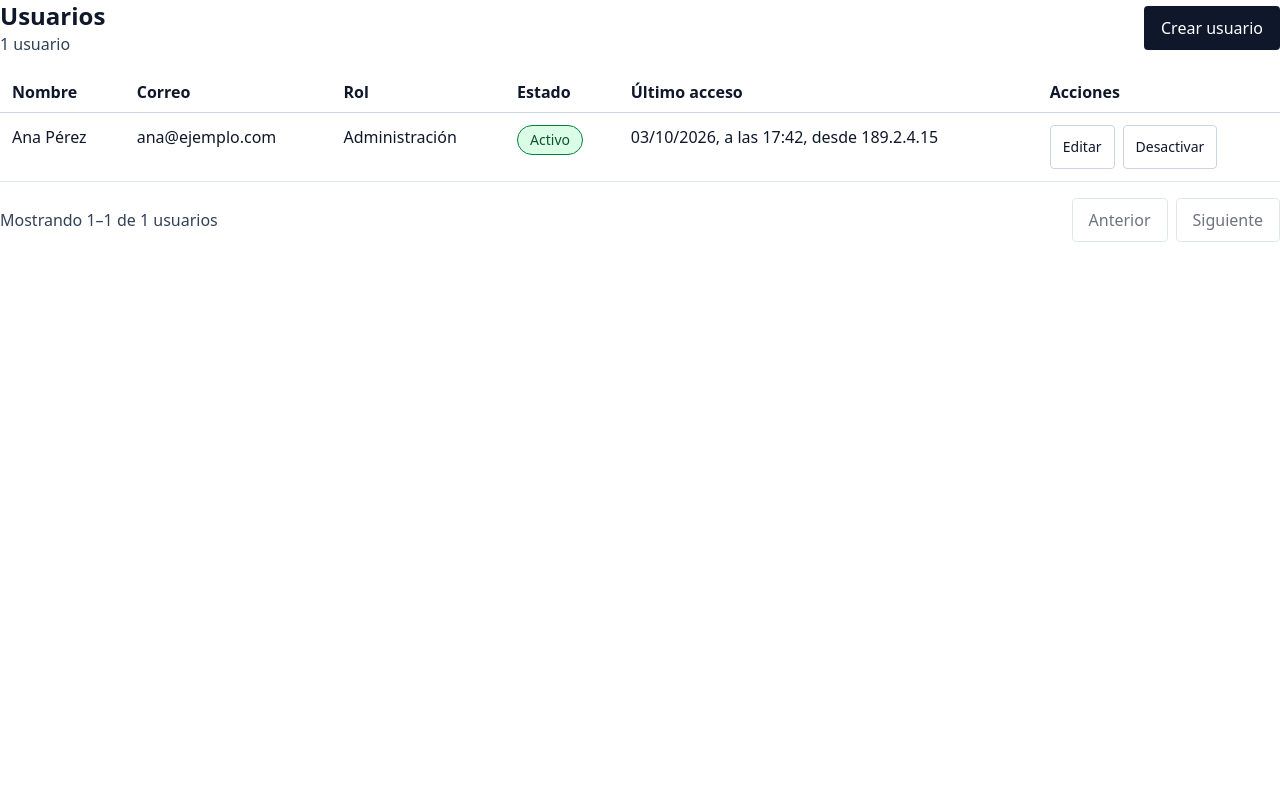
Scenario: UserForm · editar › precarga la ficha, muestra el último acceso y no muestra contraseña (FR-021/FR-026)
The image size is (1280, 800).
Click the button "Editar".
click(1082, 147)  # box 1050,125 -> 1114,169
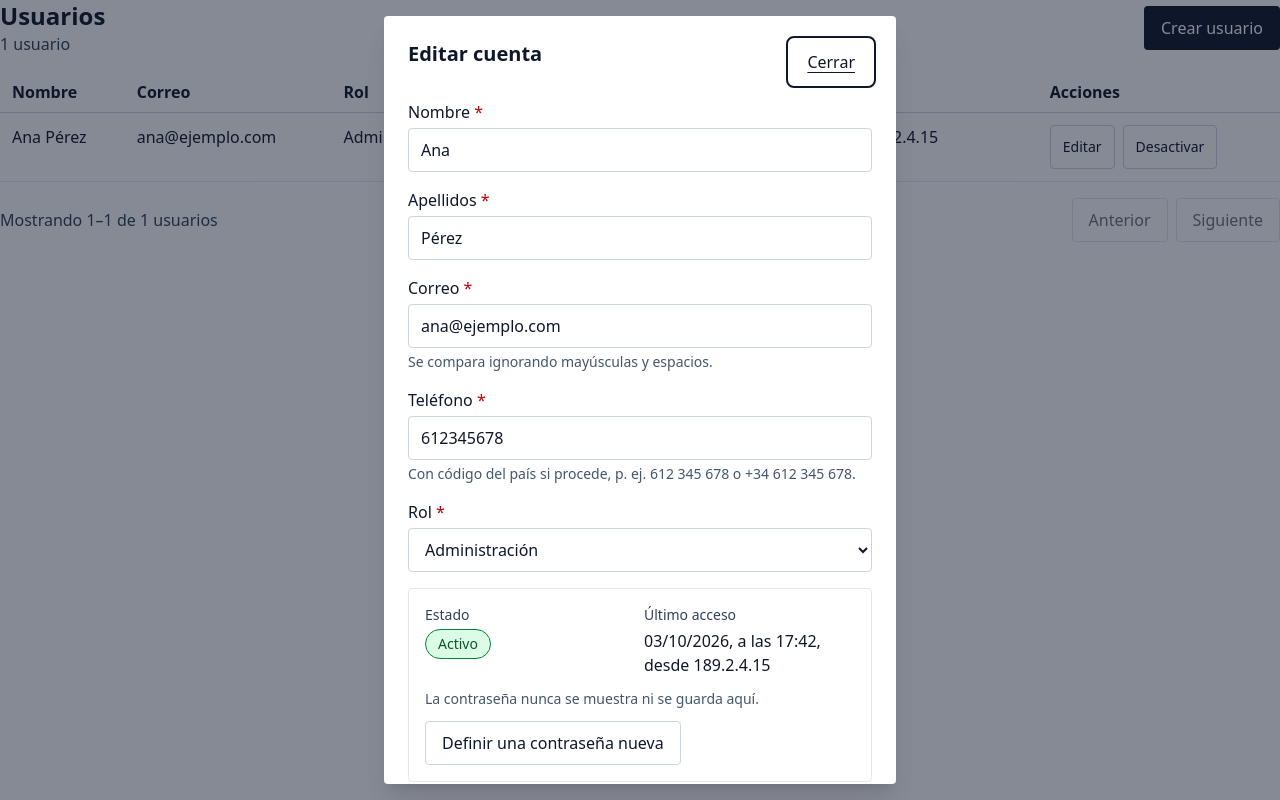
Result: the field labelled "Nombre *" holds "Ana" at 408,128 -> 872,172
Result: the field labelled "Correo *" holds "ana@ejemplo.com" at 408,304 -> 872,348
Result: the text "03/10/2026, a las 17:42, desde 189.2.4.15" is shown at 644,630 -> 821,676
